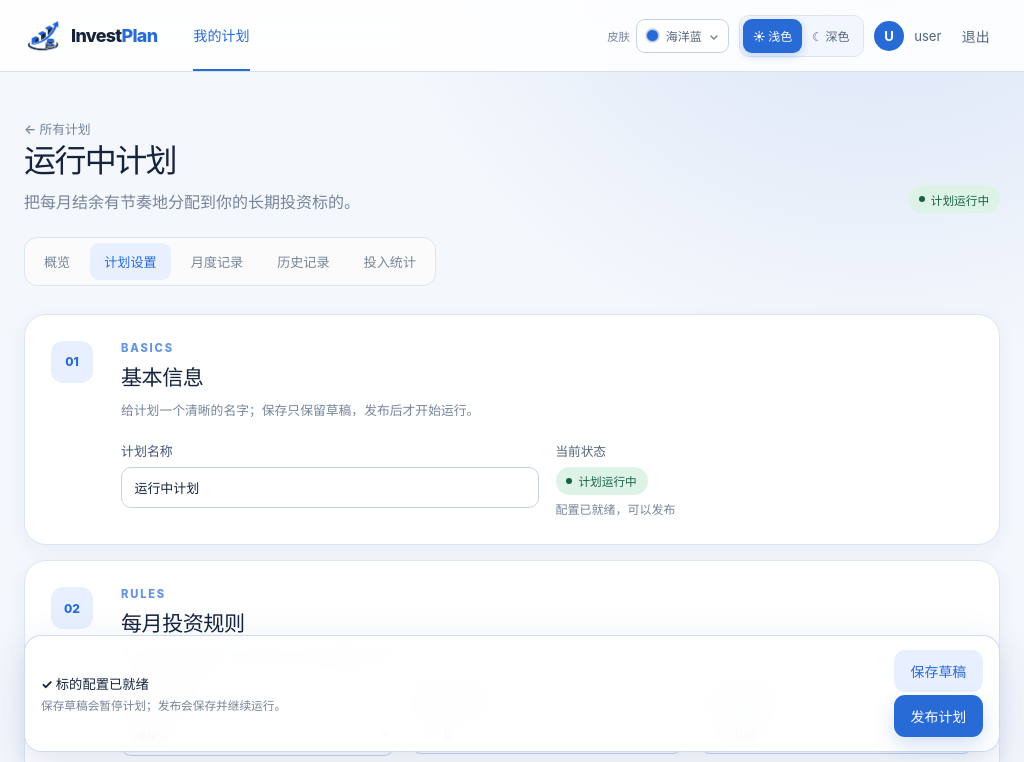
Test: investment target settings › warns before saving a running plan back to draft
The image size is (1024, 762).
Click the button "保存草稿". click: (938, 671)
box: [894, 650, 983, 692]
(page scrolled)
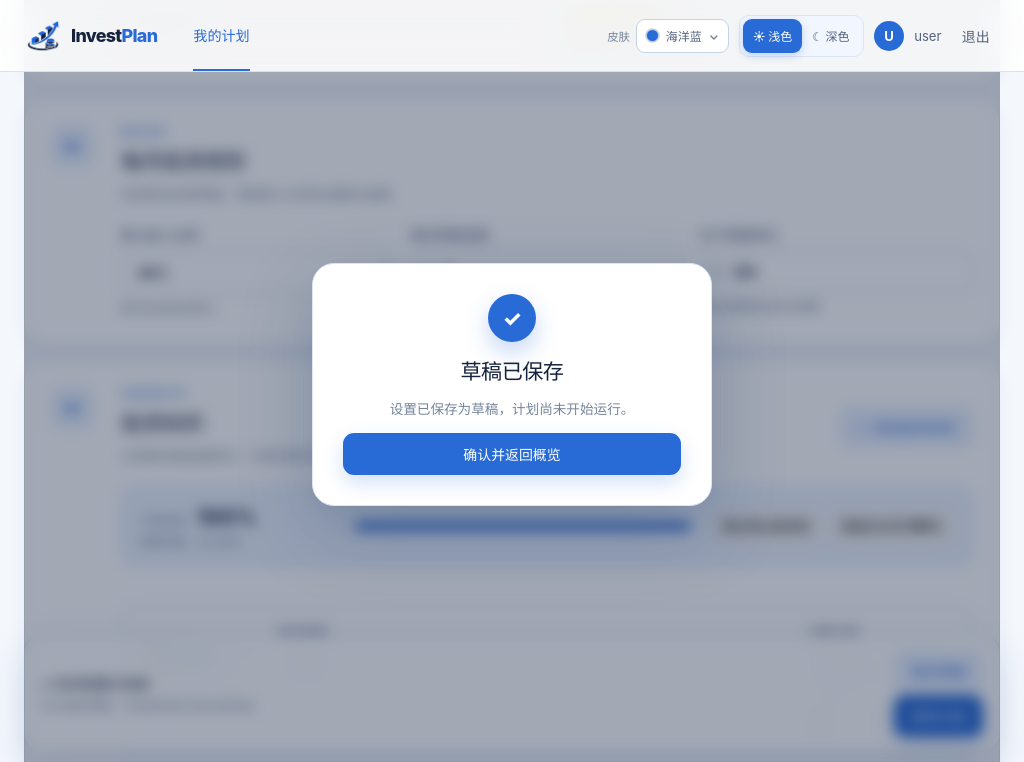
Expected: the dialog "草稿已保存" is shown, [312, 263, 712, 506]
